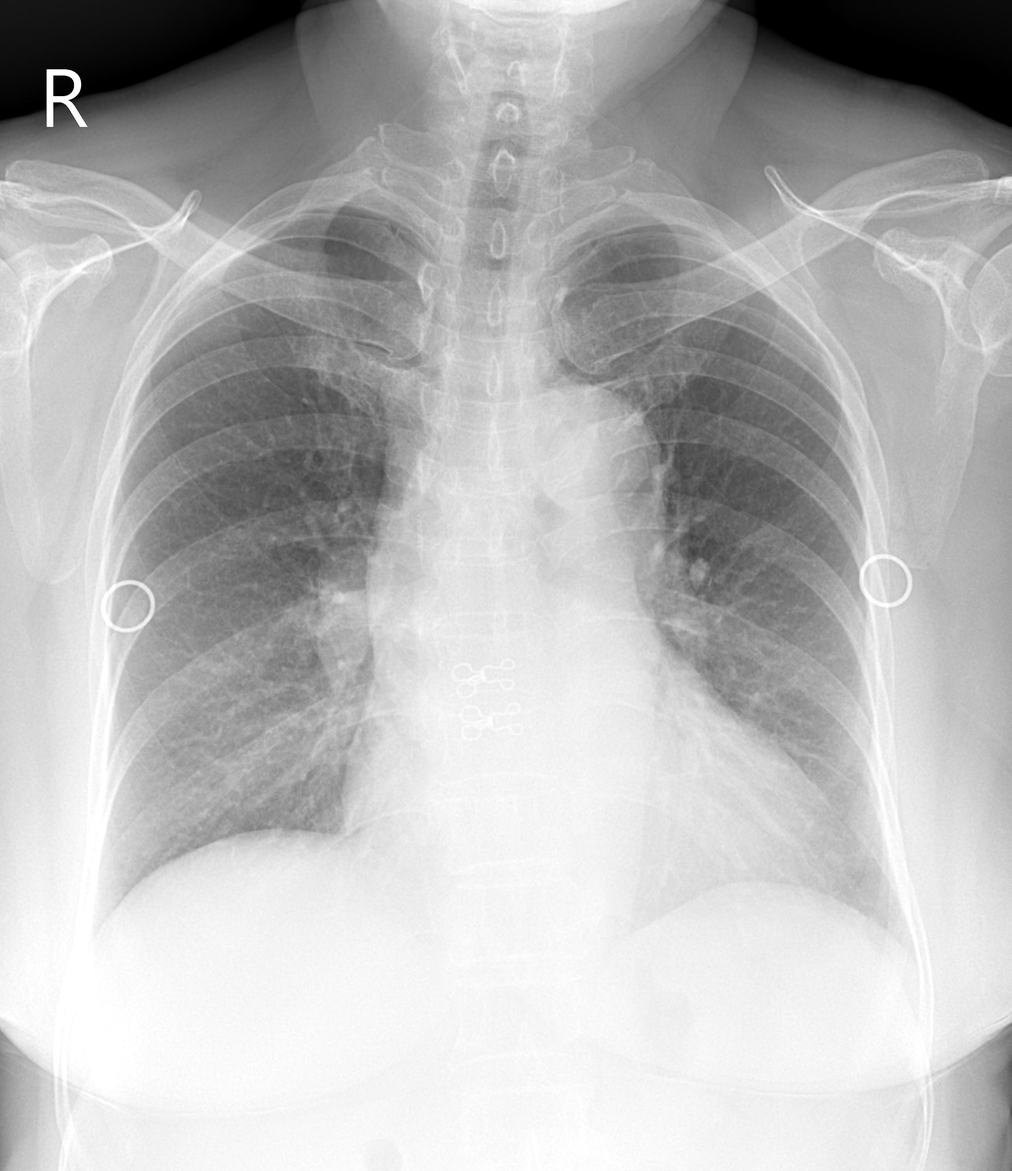Aortic enlargement: (499, 380, 673, 549)
Cardiomegaly: (338, 739, 851, 925)
